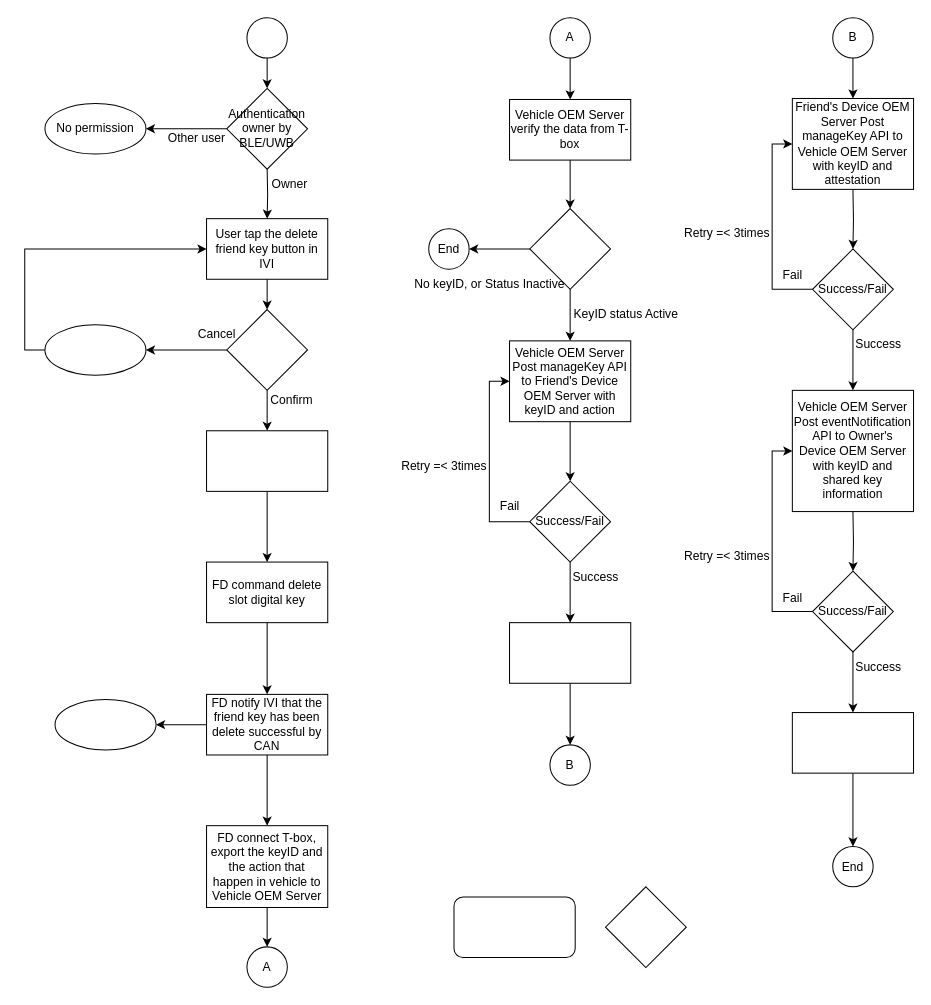
The diagram is 931 pixels wide and 1005 high, and some of its shapes have lost their labels. The shapes that lost their labels are listed below. From the top down, each one's centre as x and y in pixels, then its label:
(266,37): Start
(570,248): Query DB
(95,349): Back to IVI menu
(267,349): Confirm/Cancel
(267,460): IVI notify the delete key action to FD by CAN
(570,652): Friend's Device OEM Server terminate key on device
(105,724): IVI pop success
(852,742): Owner's Device OEM Server notify owner device
(514,926): Retry time gap rule: First retry 0s~1s Second retry 1s~5s Third retry 5s~30s
(645,927): All square should log
